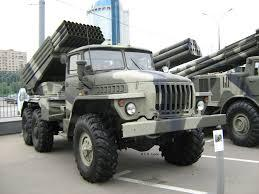MIL_SAM_TEL: (17, 21, 208, 181)
